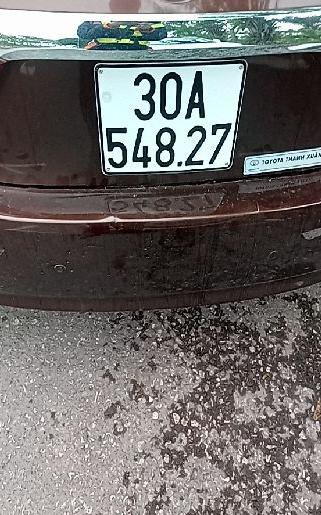Plate-iWeP: (90, 61, 246, 174)
